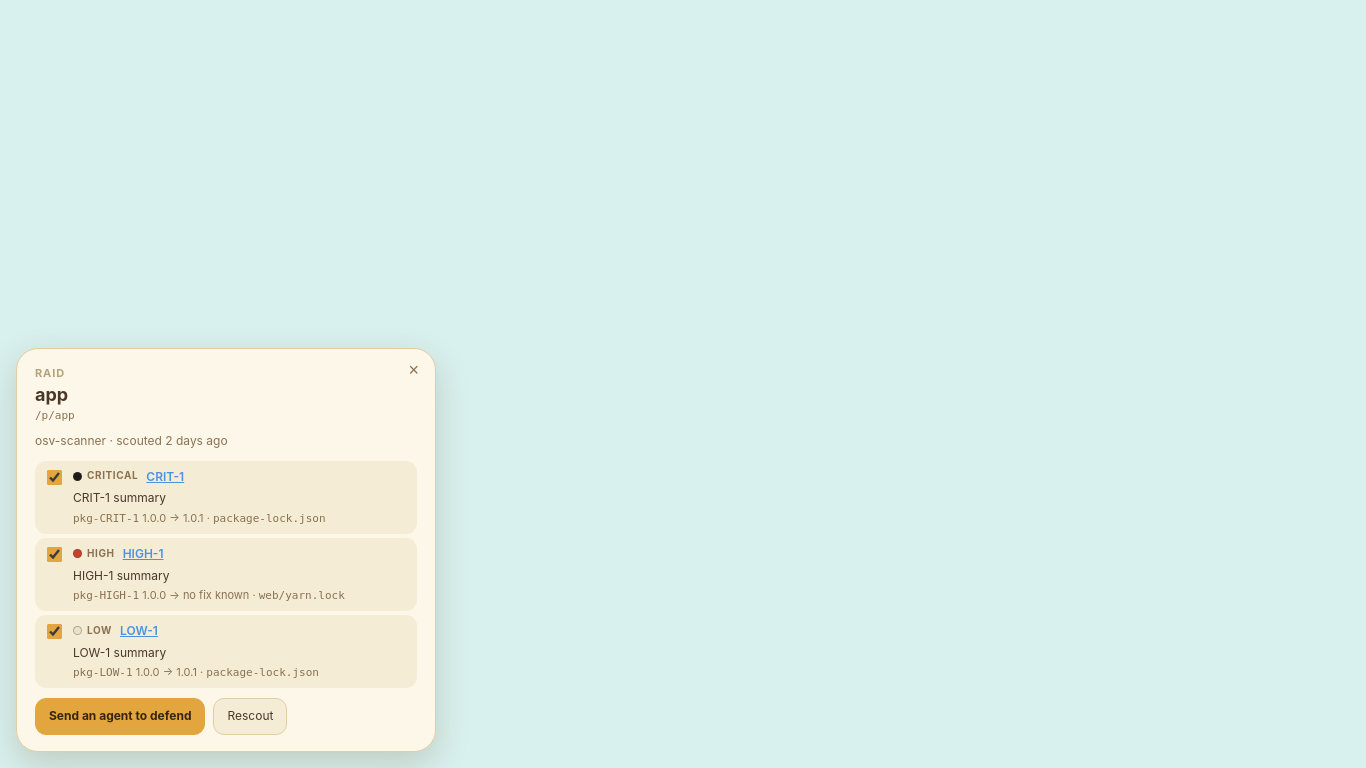
it: defends with only the checked findings, and not at all with none
Earlier steps of the test are not shown.
Step 1. Click the checkbox named "Include CRIT-1" → {"x": 54, "y": 477}, box left=47, top=470, right=62, bottom=485
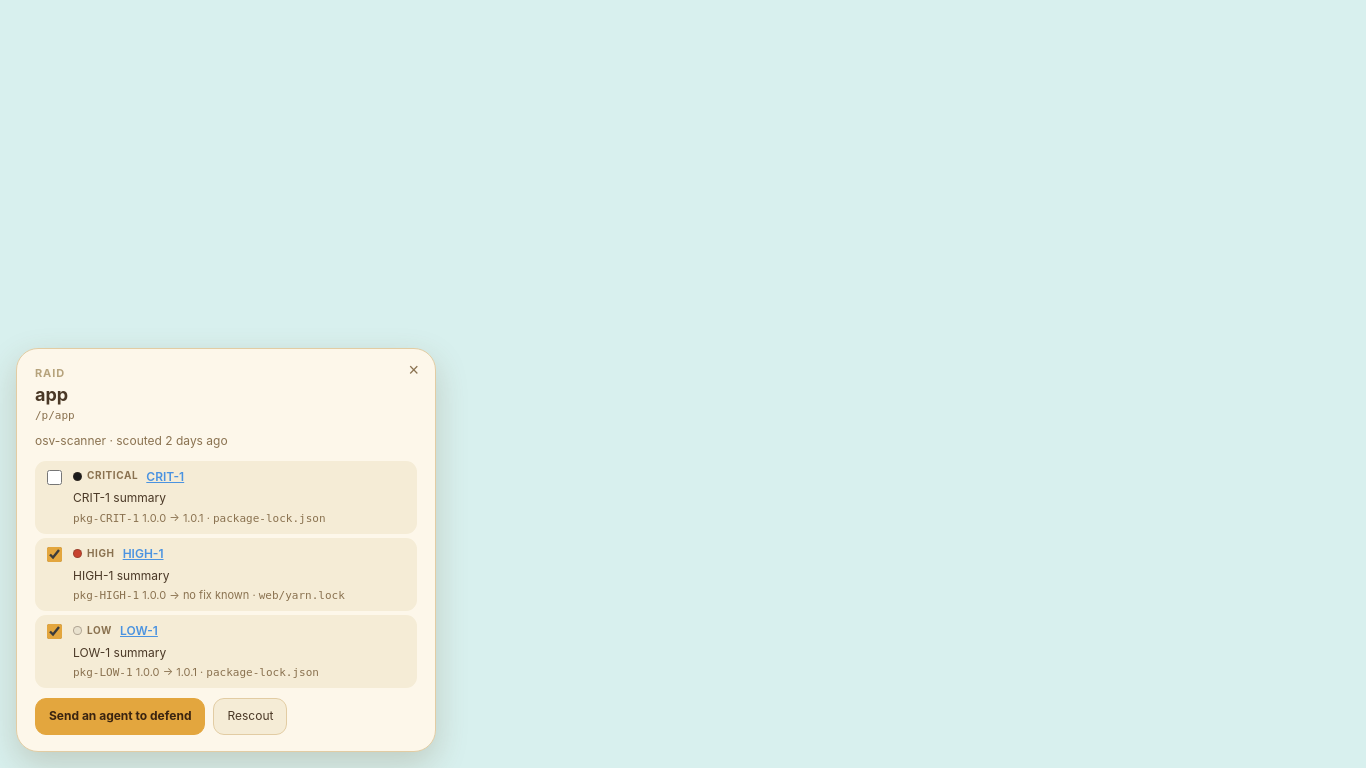
Step 2. Click the checkbox named "Include HIGH-1" → {"x": 54, "y": 554}, box left=47, top=547, right=62, bottom=562
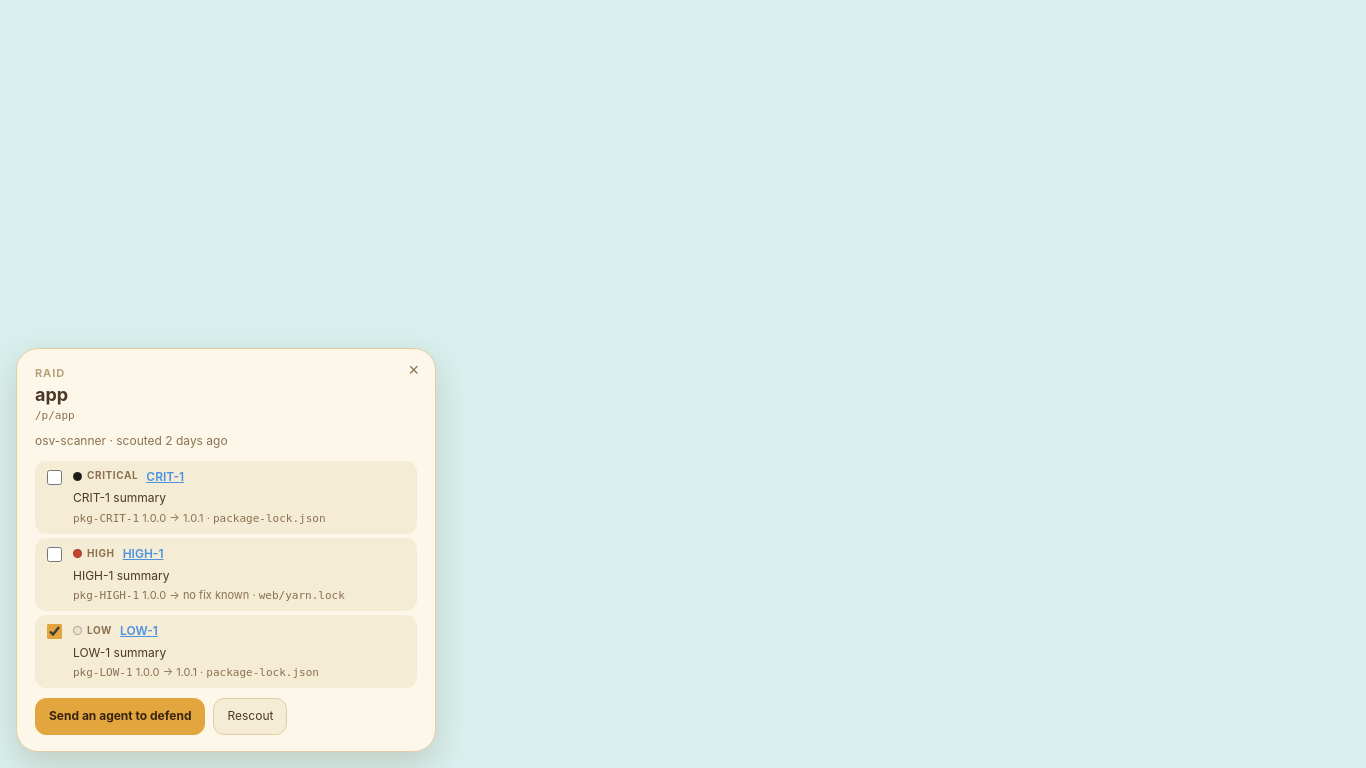
Step 3. Click the checkbox named "Include LOW-1" → {"x": 54, "y": 632}, box left=47, top=624, right=62, bottom=639
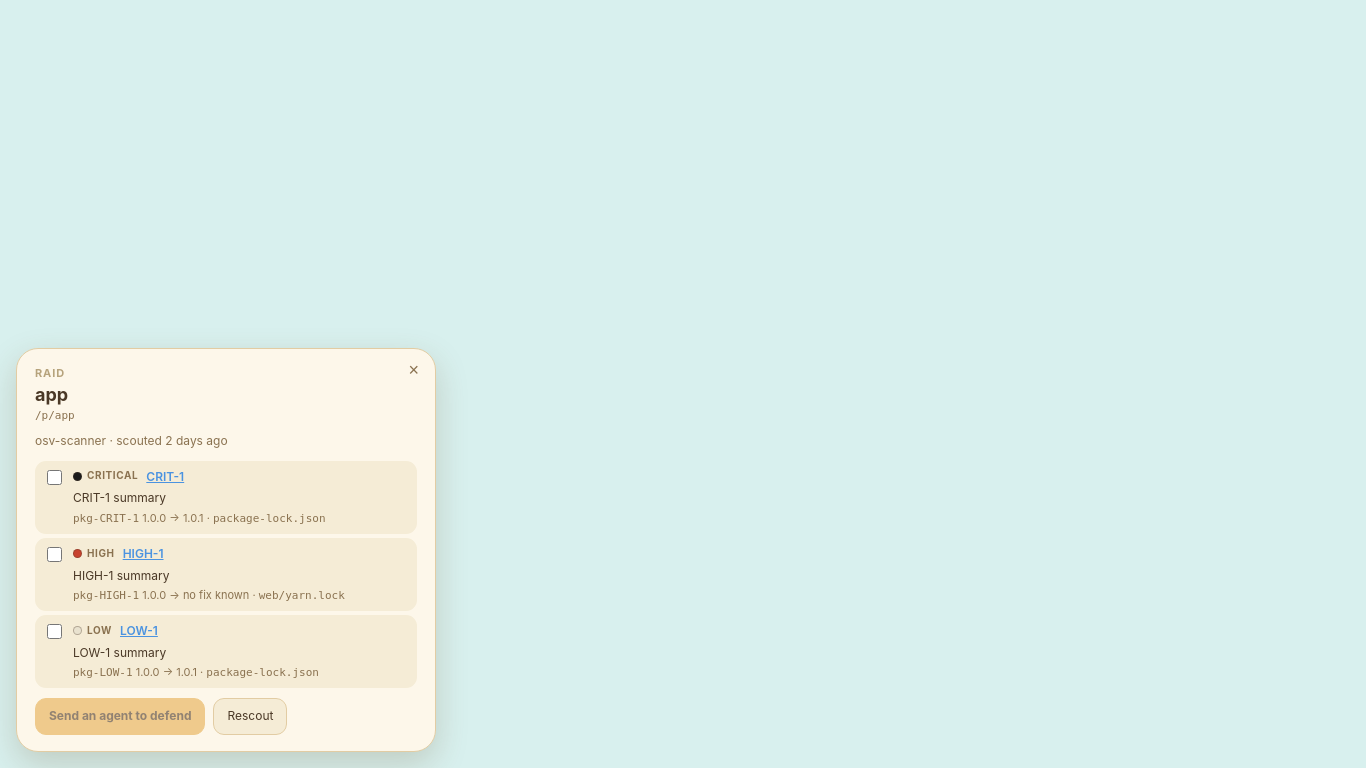
Expected: the button "Send an agent to defend" is disabled, left=35, top=698, right=206, bottom=735
